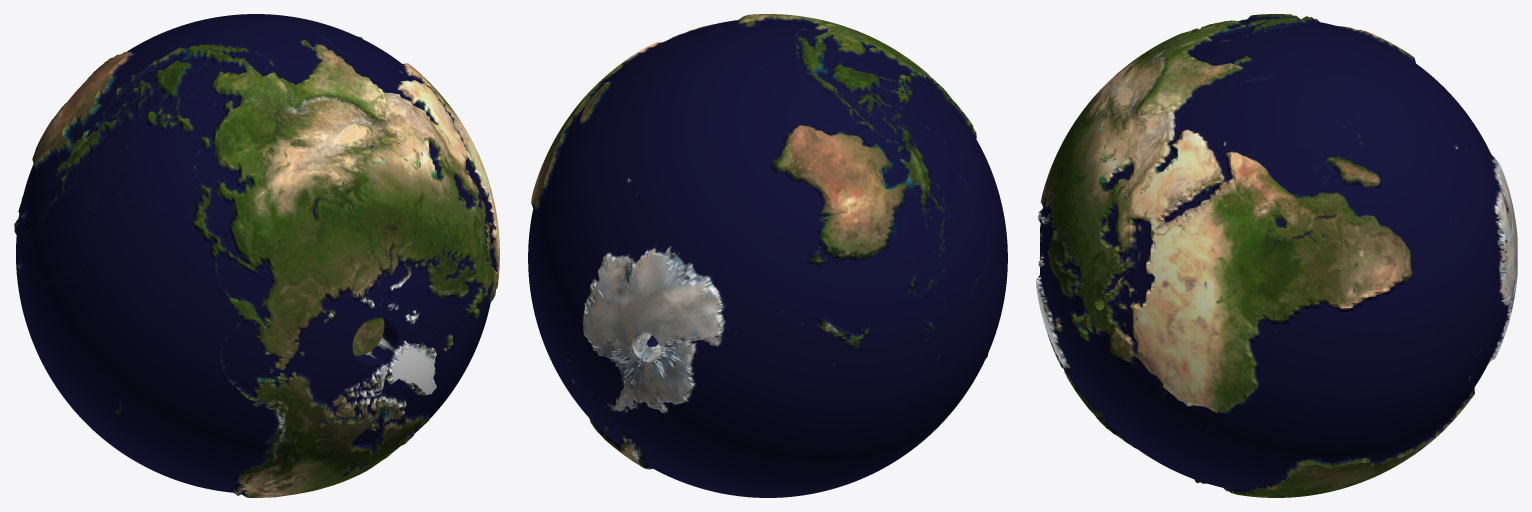
File: erde.obj
3 renders of one model, left to right at view 1: azimuth 30°, elevation 25°; view 2: azimuth 150°, elevation 25°; view 3: azimuth 270°, elevation 25°, orthographic.
Bounding box in the file's own units: 46.27 × 46.26 × 46.56.
Materials: 1 (1 with a texture image).
